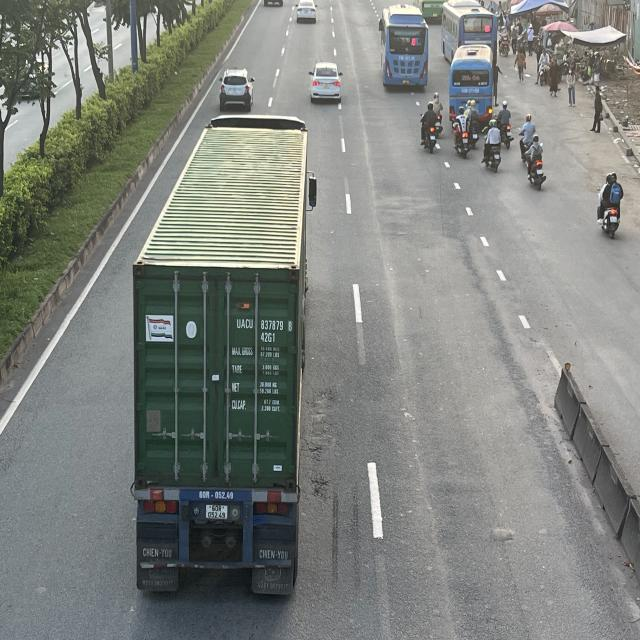car: (220, 70, 256, 116), (309, 63, 344, 105), (294, 0, 318, 24)
coach: (378, 4, 428, 88), (450, 44, 492, 121), (439, 0, 495, 57)
container: (137, 113, 319, 584)
